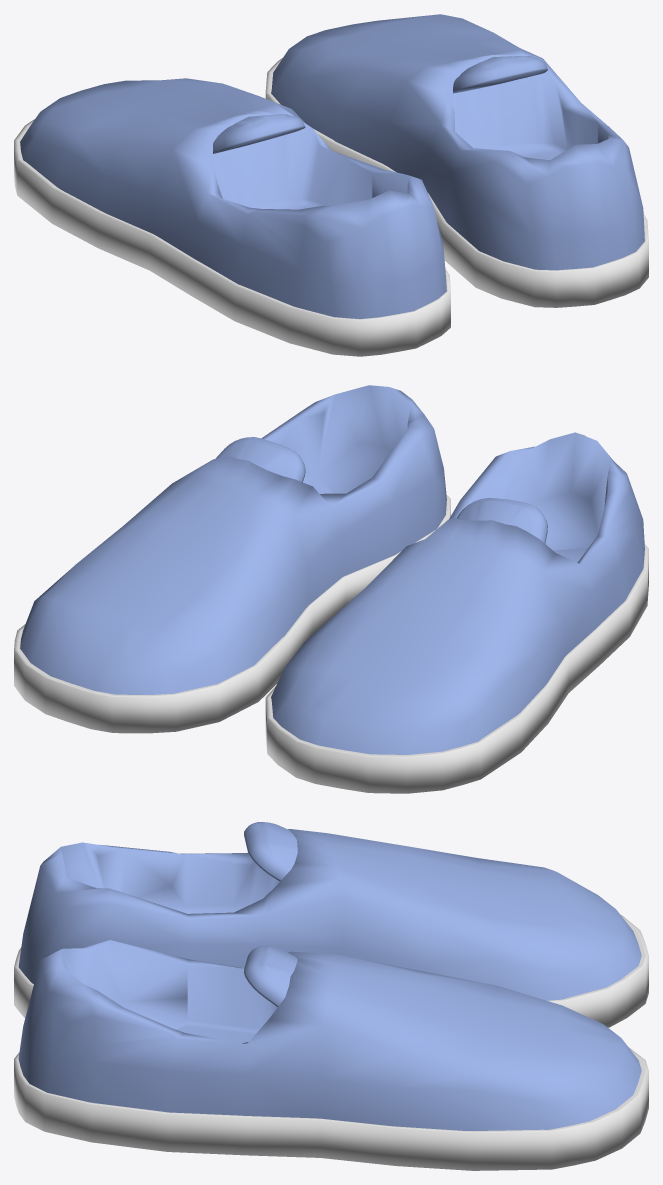
Rendered from tossut.fbx.
The picture shows the model from 3 angles, top to bottom: view 1: azimuth 30°, elevation 25°; view 2: azimuth 150°, elevation 25°; view 3: azimuth 270°, elevation 25°; orthographic projection. The views are drawn at different scales.
Visible parts, largest first — view 1: Tossu, Pohja; view 2: Tossu, Pohja; view 3: Tossu, Pohja.
Boxes of the visible parts, x1,y1,x2,y2 form: Tossu: (20, 14, 644, 319); Pohja: (14, 58, 648, 356); Tossu: (20, 385, 644, 754); Pohja: (14, 495, 648, 793); Tossu: (18, 822, 641, 1130); Pohja: (14, 915, 648, 1170).
Size of the model in its own units: 0.2028 by 0.0623 by 0.2264.
